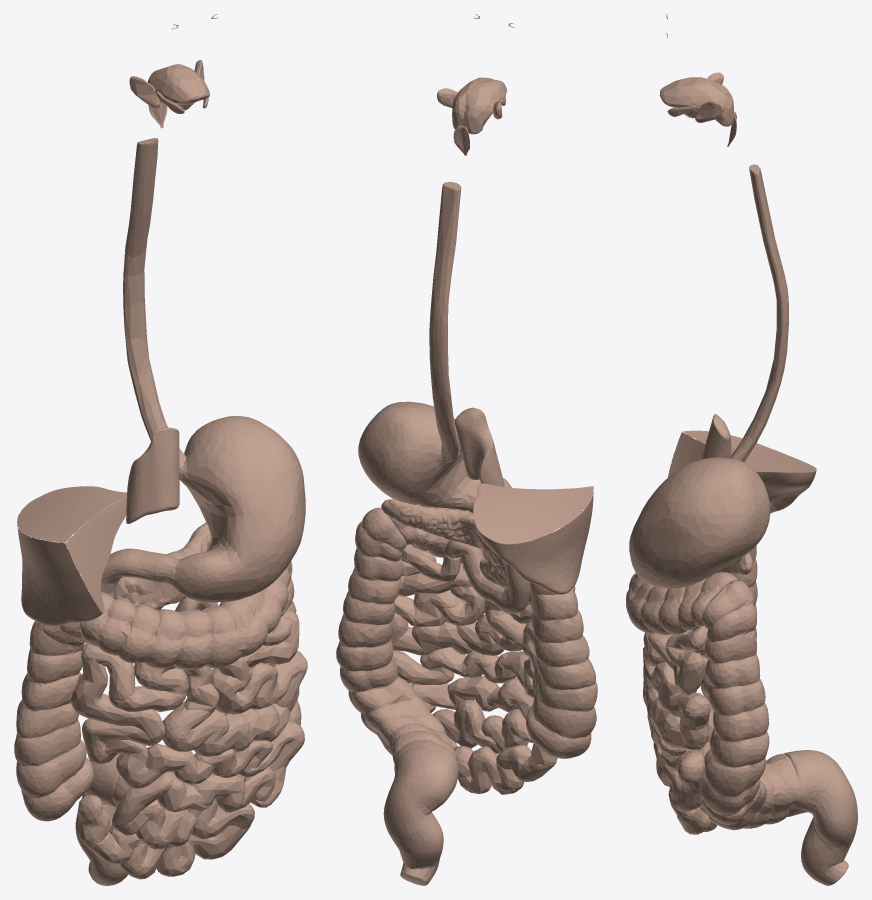
Rendered from digestive-00.glb.
The picture shows the model from 3 angles, left to right: view 1: azimuth 30°, elevation 25°; view 2: azimuth 150°, elevation 25°; view 3: azimuth 270°, elevation 25°; orthographic projection. The views are drawn at different scales.
Visible parts, largest first — view 1: FJ2564, FJ2409, FJ2566, FJ2572, FJ2563, FJ2816, FJ2621, FJ2573, FJ2571, FJ2761, FJ2574, FJ2580 (+33 smaller); view 2: FJ2567, FJ2409, FJ2566, FJ2564, FJ2571, FJ2563, FJ2816, FJ2573, FJ1895, FJ2761, FJ2629, FJ2610 (+21 smaller); view 3: FJ2567, FJ2564, FJ2571, FJ2572, FJ2563, FJ2409, FJ2761, FJ2623, FJ2575, FJ2608, FJ2816, FJ2607 (+6 smaller).
Part boxes in pixels (box(x1,y1,x2,y2)): FJ2564: box(158, 416, 305, 602); FJ2409: box(17, 486, 126, 626); FJ2566: box(14, 590, 93, 821); FJ2572: box(80, 562, 290, 669); FJ2563: box(123, 138, 186, 462); FJ2816: box(126, 427, 179, 523); FJ2621: box(70, 652, 165, 745); FJ2573: box(100, 548, 217, 611); FJ2571: box(75, 754, 127, 885); FJ2761: box(148, 64, 209, 110); FJ2574: box(82, 718, 159, 763); FJ2580: box(112, 771, 175, 830); FJ2567: box(336, 507, 458, 777); FJ2409: box(473, 483, 593, 594); FJ2566: box(526, 582, 597, 758); FJ2564: box(358, 401, 511, 512); FJ2571: box(383, 746, 458, 885); FJ2563: box(429, 181, 461, 462); FJ2816: box(454, 407, 504, 486); FJ2573: box(444, 540, 530, 613); FJ1895: box(381, 499, 507, 587); FJ2761: box(452, 77, 506, 134); FJ2629: box(382, 499, 507, 587); FJ2610: box(412, 621, 472, 655); FJ2567: box(699, 580, 800, 830); FJ2564: box(629, 457, 770, 588); FJ2571: box(784, 750, 857, 885); FJ2572: box(626, 572, 738, 635); FJ2563: box(729, 164, 788, 462); FJ2409: box(668, 430, 816, 513); FJ2761: box(659, 77, 733, 126); FJ2623: box(648, 633, 704, 695); FJ2575: box(677, 756, 704, 811); FJ2608: box(679, 695, 710, 746); FJ2816: box(702, 414, 736, 459); FJ2607: box(667, 692, 708, 717).
Size of the model in its own units: 0.2443 by 0.76 by 0.1857.
